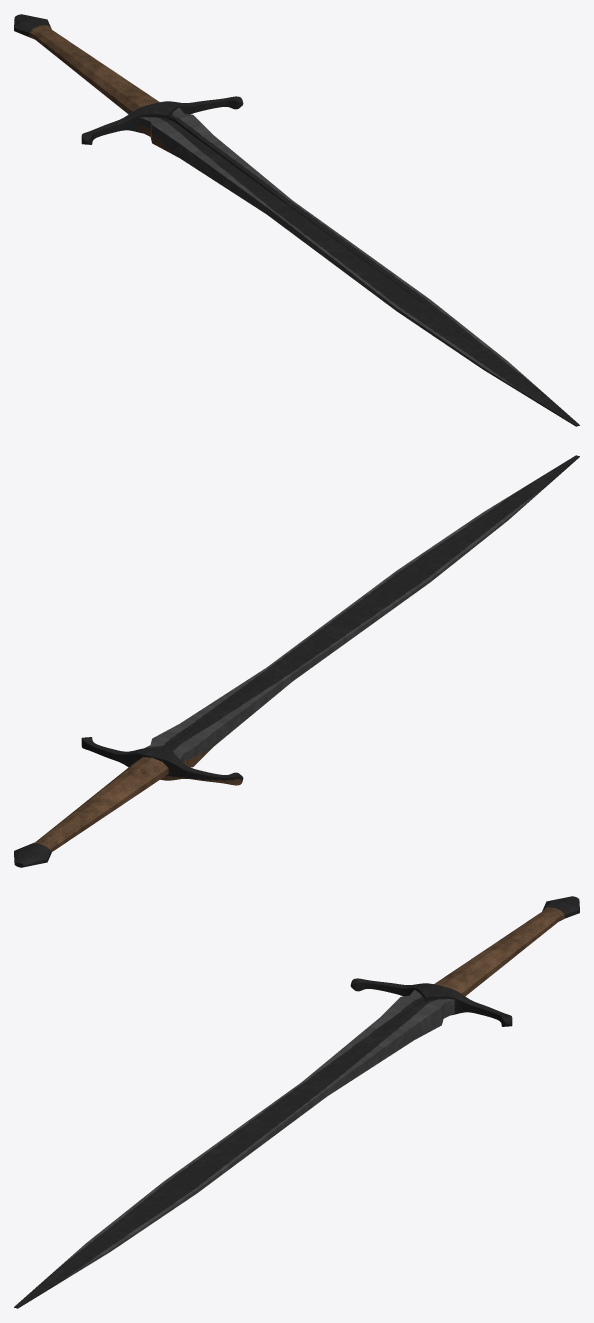
File: espada.fbx
The picture shows the model from 3 angles, top to bottom: view 1: azimuth 30°, elevation 25°; view 2: azimuth 150°, elevation 25°; view 3: azimuth 330°, elevation 25°; orthographic projection.
Visible parts, largest first — view 1: Espada; view 2: Espada; view 3: Espada.
Boxes of the visible parts, <box> form: Espada: <box>14,14,579,426</box>; Espada: <box>14,455,579,867</box>; Espada: <box>14,896,579,1308</box>.
Size of the model in its own units: 16.52 by 2.09 by 100.
Materials: 1 (1 with a texture image).
